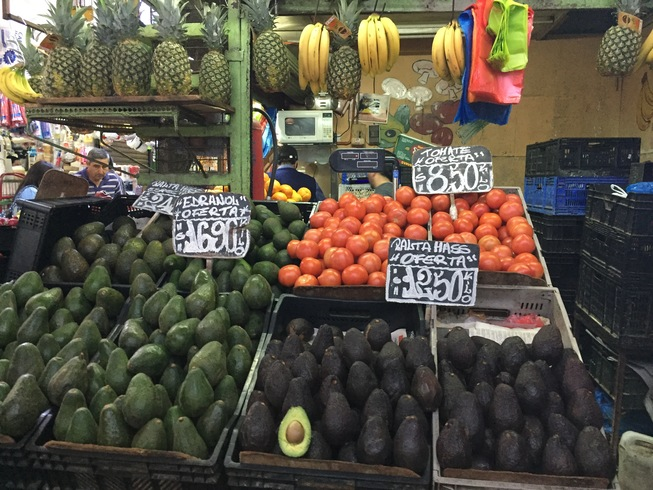precio: (387, 235, 481, 311), (174, 192, 252, 261), (412, 144, 495, 199), (136, 177, 214, 223)
